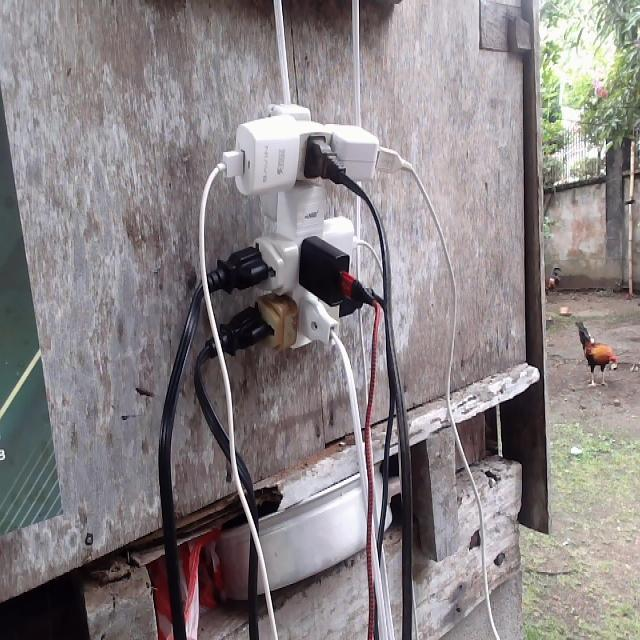-: (220, 100, 386, 353)
